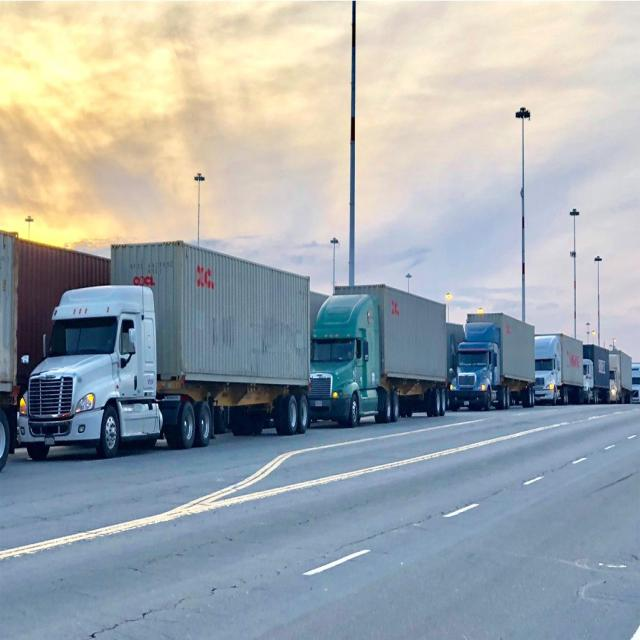TRUCK: (18, 249, 315, 463), (311, 288, 453, 435), (452, 312, 536, 415), (534, 334, 583, 410)
